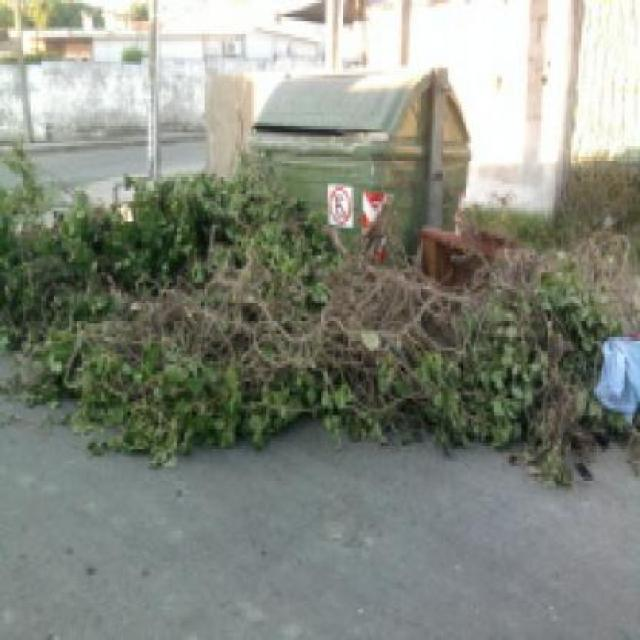garbage: (293, 171, 426, 276), (425, 205, 532, 286), (593, 325, 639, 471), (95, 171, 166, 240)
